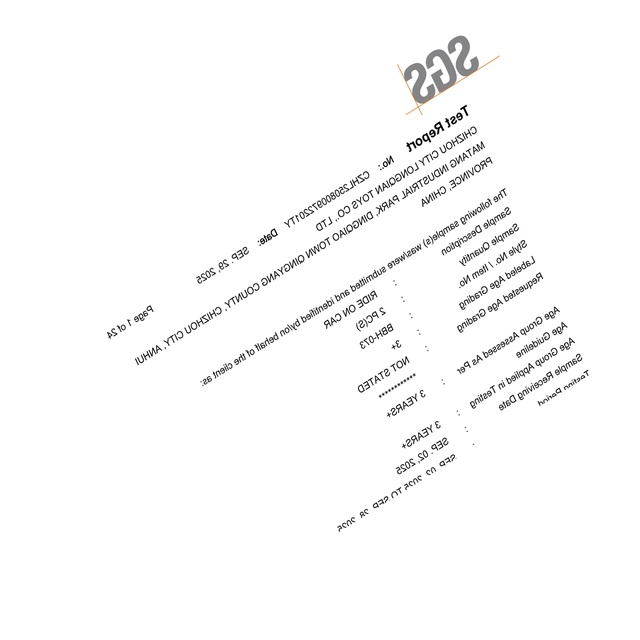sgs: (402, 35, 480, 105)
